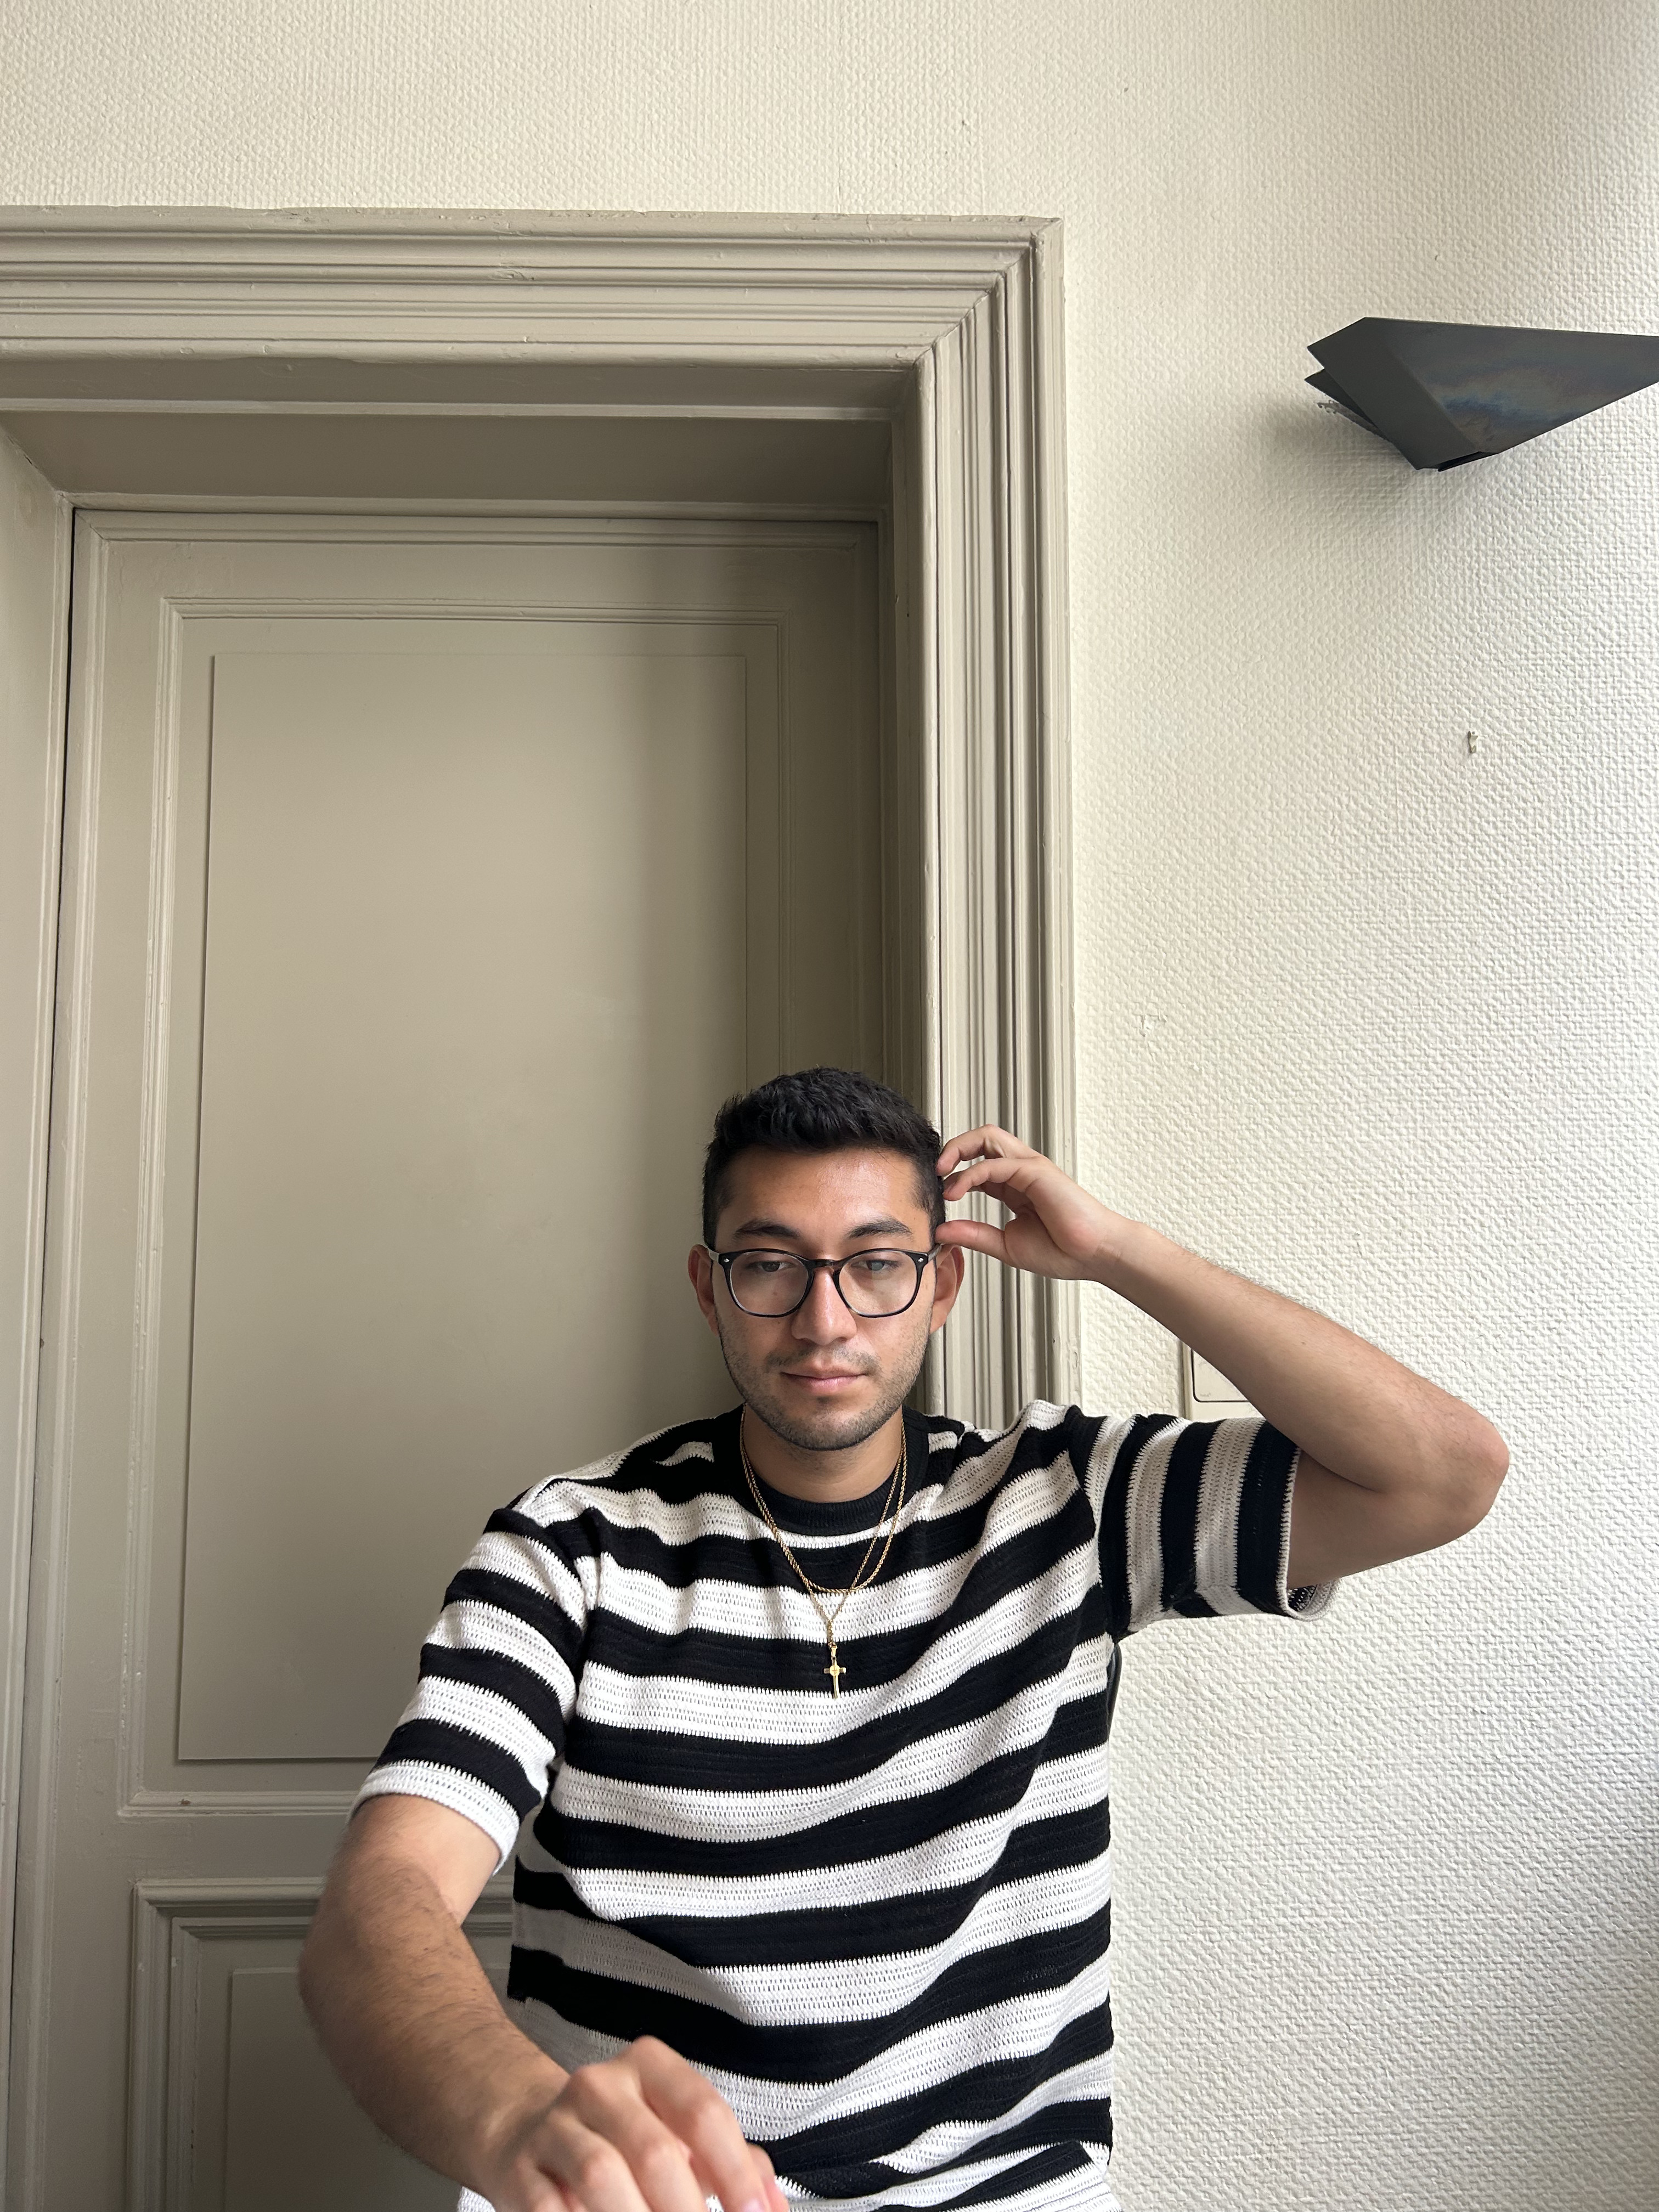brain: (296, 1066, 1509, 2207), (1300, 312, 1657, 474), (735, 1425, 911, 1698)
